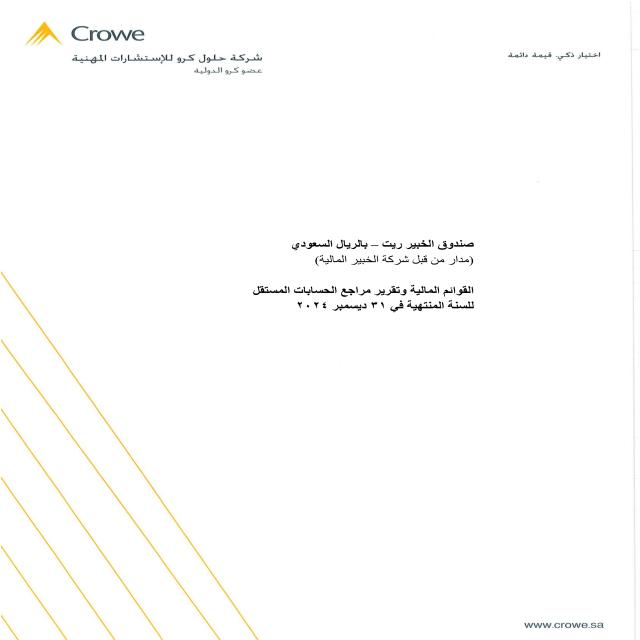other: (203, 214, 544, 359)
